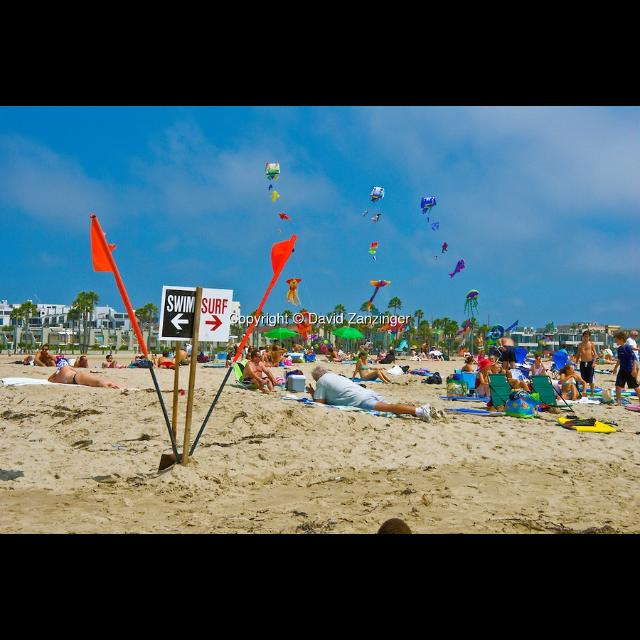head: (310, 366, 328, 384), (614, 331, 628, 347), (251, 351, 263, 364), (564, 366, 576, 376), (484, 362, 494, 372), (492, 364, 502, 374), (582, 332, 592, 342), (360, 351, 370, 361), (631, 331, 640, 341), (42, 345, 50, 355), (60, 366, 68, 376), (81, 356, 89, 366), (489, 356, 498, 364), (286, 379, 296, 386), (107, 355, 115, 363), (162, 352, 170, 360), (272, 345, 282, 351), (468, 356, 474, 366), (509, 362, 516, 370), (227, 354, 233, 362), (272, 346, 280, 352), (28, 356, 34, 362), (152, 354, 158, 360), (274, 341, 280, 347), (328, 348, 334, 354), (412, 346, 418, 352), (536, 356, 542, 362), (562, 345, 568, 351), (250, 347, 254, 353), (292, 342, 296, 348), (390, 350, 394, 356), (432, 346, 436, 352), (466, 348, 470, 354), (181, 348, 185, 352), (382, 350, 386, 354), (426, 344, 430, 348), (479, 334, 483, 338), (600, 355, 604, 359), (597, 359, 601, 363), (598, 352, 602, 356), (503, 339, 507, 343), (424, 351, 428, 355), (348, 351, 352, 355), (235, 344, 238, 348)
person: (304, 363, 450, 425), (46, 364, 122, 392), (238, 349, 282, 397), (348, 349, 398, 387), (574, 329, 598, 399), (499, 360, 533, 402), (556, 364, 588, 402), (496, 336, 518, 384), (261, 368, 309, 388), (32, 342, 60, 376), (474, 365, 500, 401), (461, 354, 483, 396), (481, 354, 503, 394), (530, 354, 552, 392), (245, 346, 281, 368), (484, 362, 506, 398), (156, 350, 182, 376), (288, 340, 308, 370), (261, 344, 287, 366), (130, 353, 160, 371), (225, 352, 253, 370), (100, 354, 128, 371), (558, 343, 570, 381), (63, 355, 91, 371), (3, 354, 34, 368), (270, 344, 288, 368), (374, 349, 396, 367), (270, 340, 286, 364), (474, 332, 486, 363), (409, 344, 429, 362), (428, 345, 446, 363), (462, 347, 480, 365), (325, 348, 345, 364), (174, 348, 190, 367), (594, 356, 620, 366), (421, 342, 432, 362), (597, 354, 607, 376), (596, 352, 614, 364), (378, 349, 388, 366), (420, 349, 430, 361), (343, 350, 352, 362), (233, 344, 239, 356)
